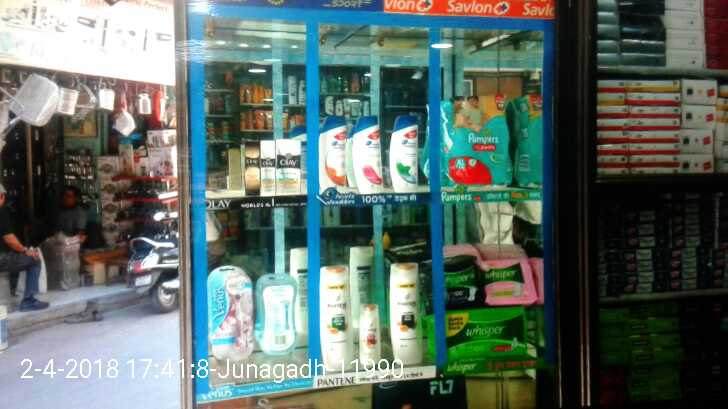venus: (209, 266, 257, 353), (257, 272, 297, 353)
